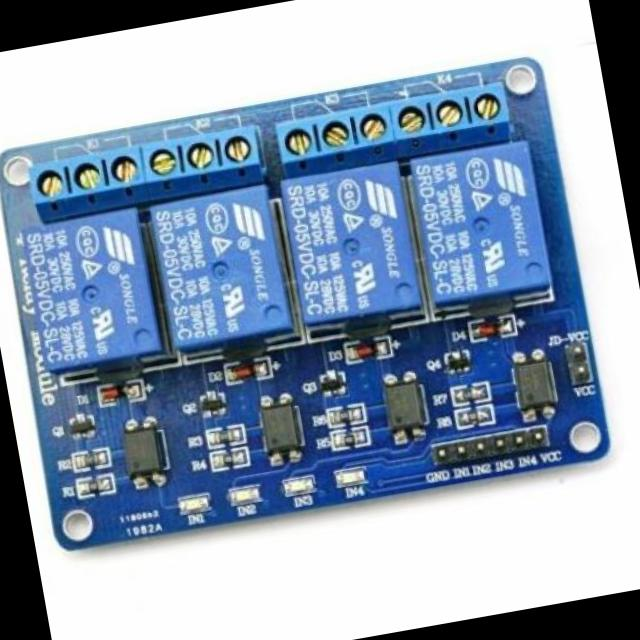IC: (510, 346, 562, 424), (120, 414, 172, 489), (257, 393, 308, 468), (379, 372, 428, 443)
LED: (228, 483, 264, 509), (334, 468, 370, 490), (178, 495, 212, 518), (280, 478, 312, 497)
connector: (24, 125, 272, 222), (274, 82, 514, 178), (426, 426, 554, 474), (562, 336, 596, 392)
diode: (93, 376, 146, 411), (225, 357, 272, 386), (342, 337, 390, 365), (467, 316, 516, 340)
resistor: (324, 401, 366, 430), (71, 449, 111, 475), (326, 426, 368, 450), (451, 383, 492, 407), (452, 405, 494, 428), (212, 447, 250, 471), (208, 424, 245, 448), (74, 476, 113, 497)
transistor: (441, 345, 478, 375), (195, 388, 228, 416), (320, 368, 348, 396), (70, 413, 99, 439)
